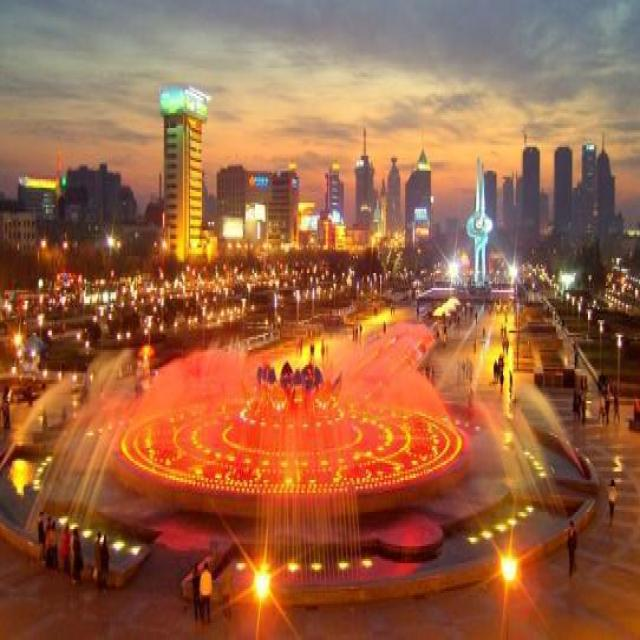other: (120, 336, 472, 500), (469, 515, 535, 596), (485, 287, 519, 431), (154, 191, 216, 267), (242, 552, 282, 620), (4, 436, 46, 489)
